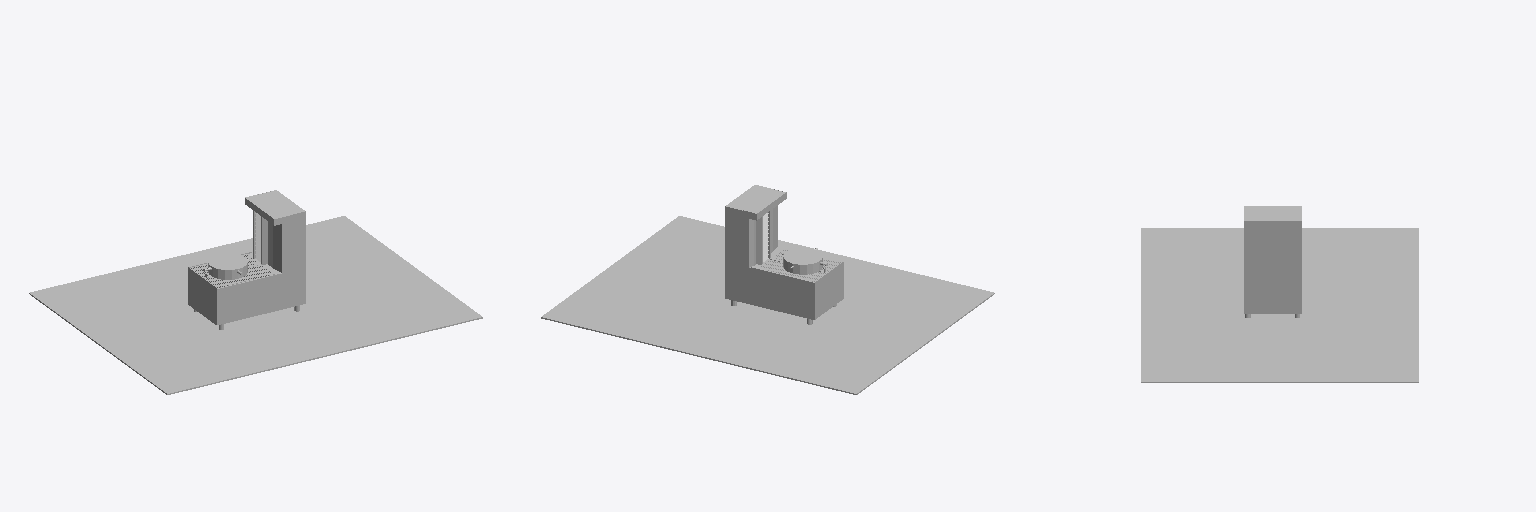
3 renders of one model, left to right at view 1: azimuth 30°, elevation 25°; view 2: azimuth 150°, elevation 25°; view 3: azimuth 270°, elevation 25°, orthographic.
Visible parts, largest first — view 1: VBox006, VBox007, VExtr001, Box002, VBox009, VCyl018; view 2: VBox006, VBox007, VExtr001, Box002, VBox009, VCyl018; view 3: VBox006, VExtr001, VBox007, VBox009.
Boxes of the visible parts, x1=… form: VBox006: x1=29, y1=216, x2=482, y2=394; VBox007: x1=217, y1=252, x2=305, y2=324; VExtr001: x1=263, y1=218, x2=305, y2=272; Box002: x1=188, y1=267, x2=216, y2=324; VBox009: x1=245, y1=190, x2=305, y2=224; VCyl018: x1=208, y1=253, x2=247, y2=276; VBox006: x1=541, y1=216, x2=994, y2=394; VBox007: x1=725, y1=247, x2=838, y2=319; VExtr001: x1=725, y1=205, x2=782, y2=267; Box002: x1=814, y1=261, x2=843, y2=319; VBox009: x1=726, y1=185, x2=785, y2=219; VCyl018: x1=783, y1=248, x2=822, y2=270; VBox006: x1=1141, y1=228, x2=1418, y2=382; VExtr001: x1=1244, y1=228, x2=1301, y2=276; VBox007: x1=1244, y1=277, x2=1301, y2=313; VBox009: x1=1244, y1=206, x2=1301, y2=227.
Bounding box in the file's own units: 500 × 152 × 380.